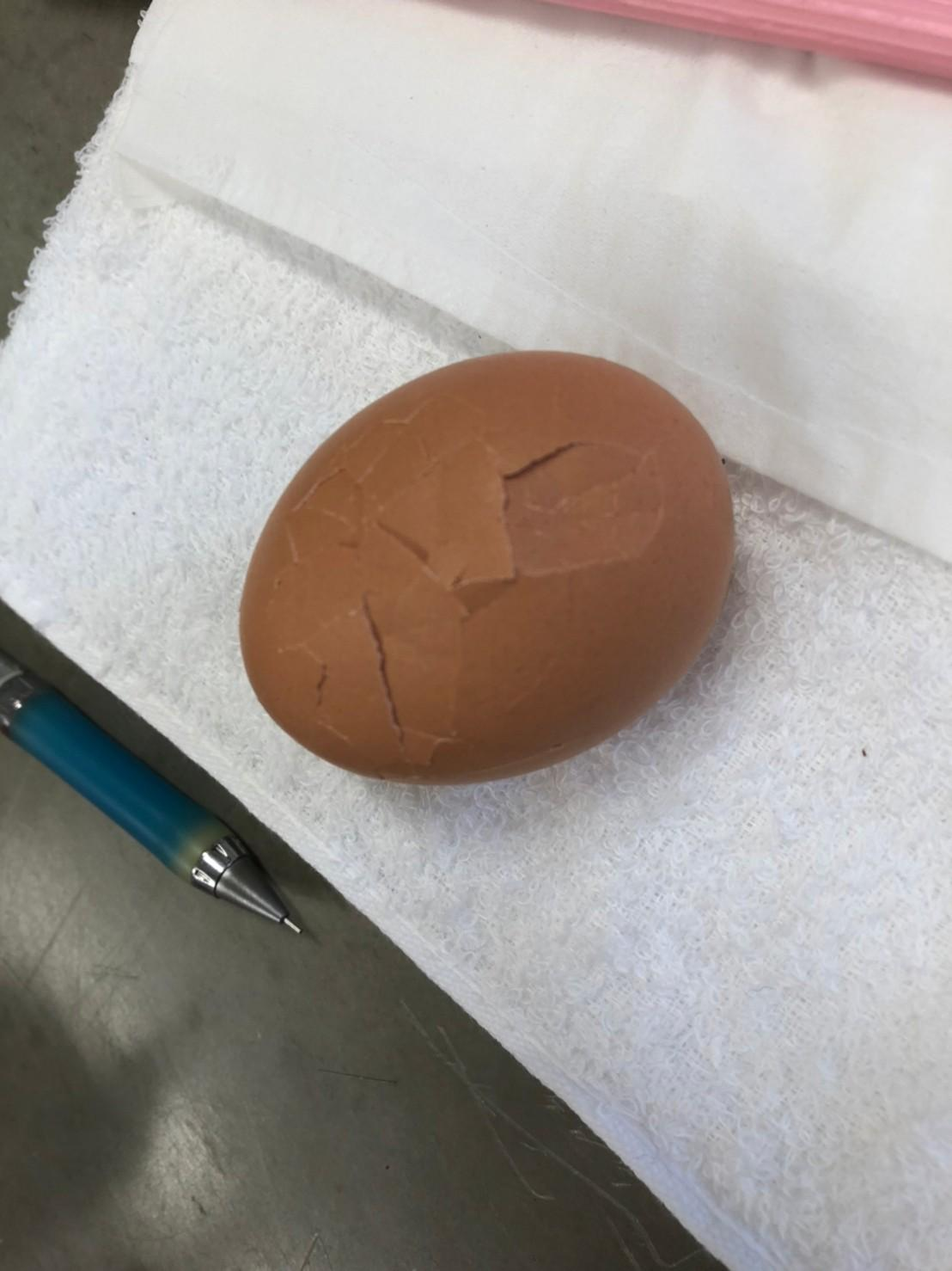egg: (225, 344, 763, 791)
